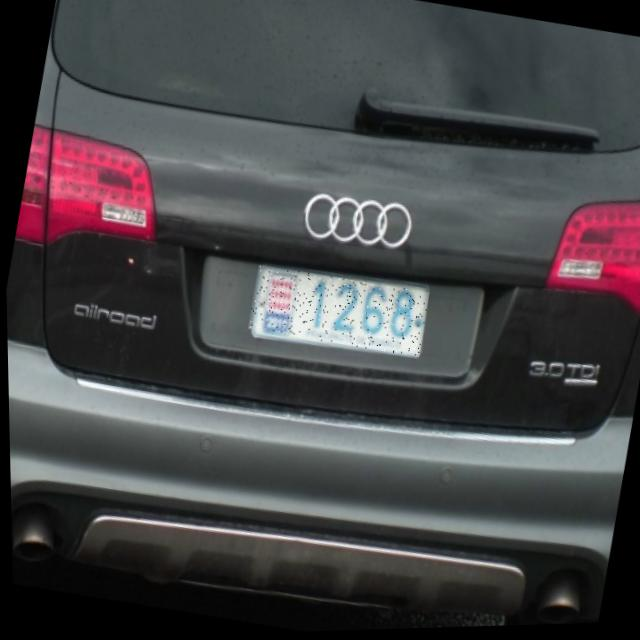license_plate: (245, 262, 429, 363)
